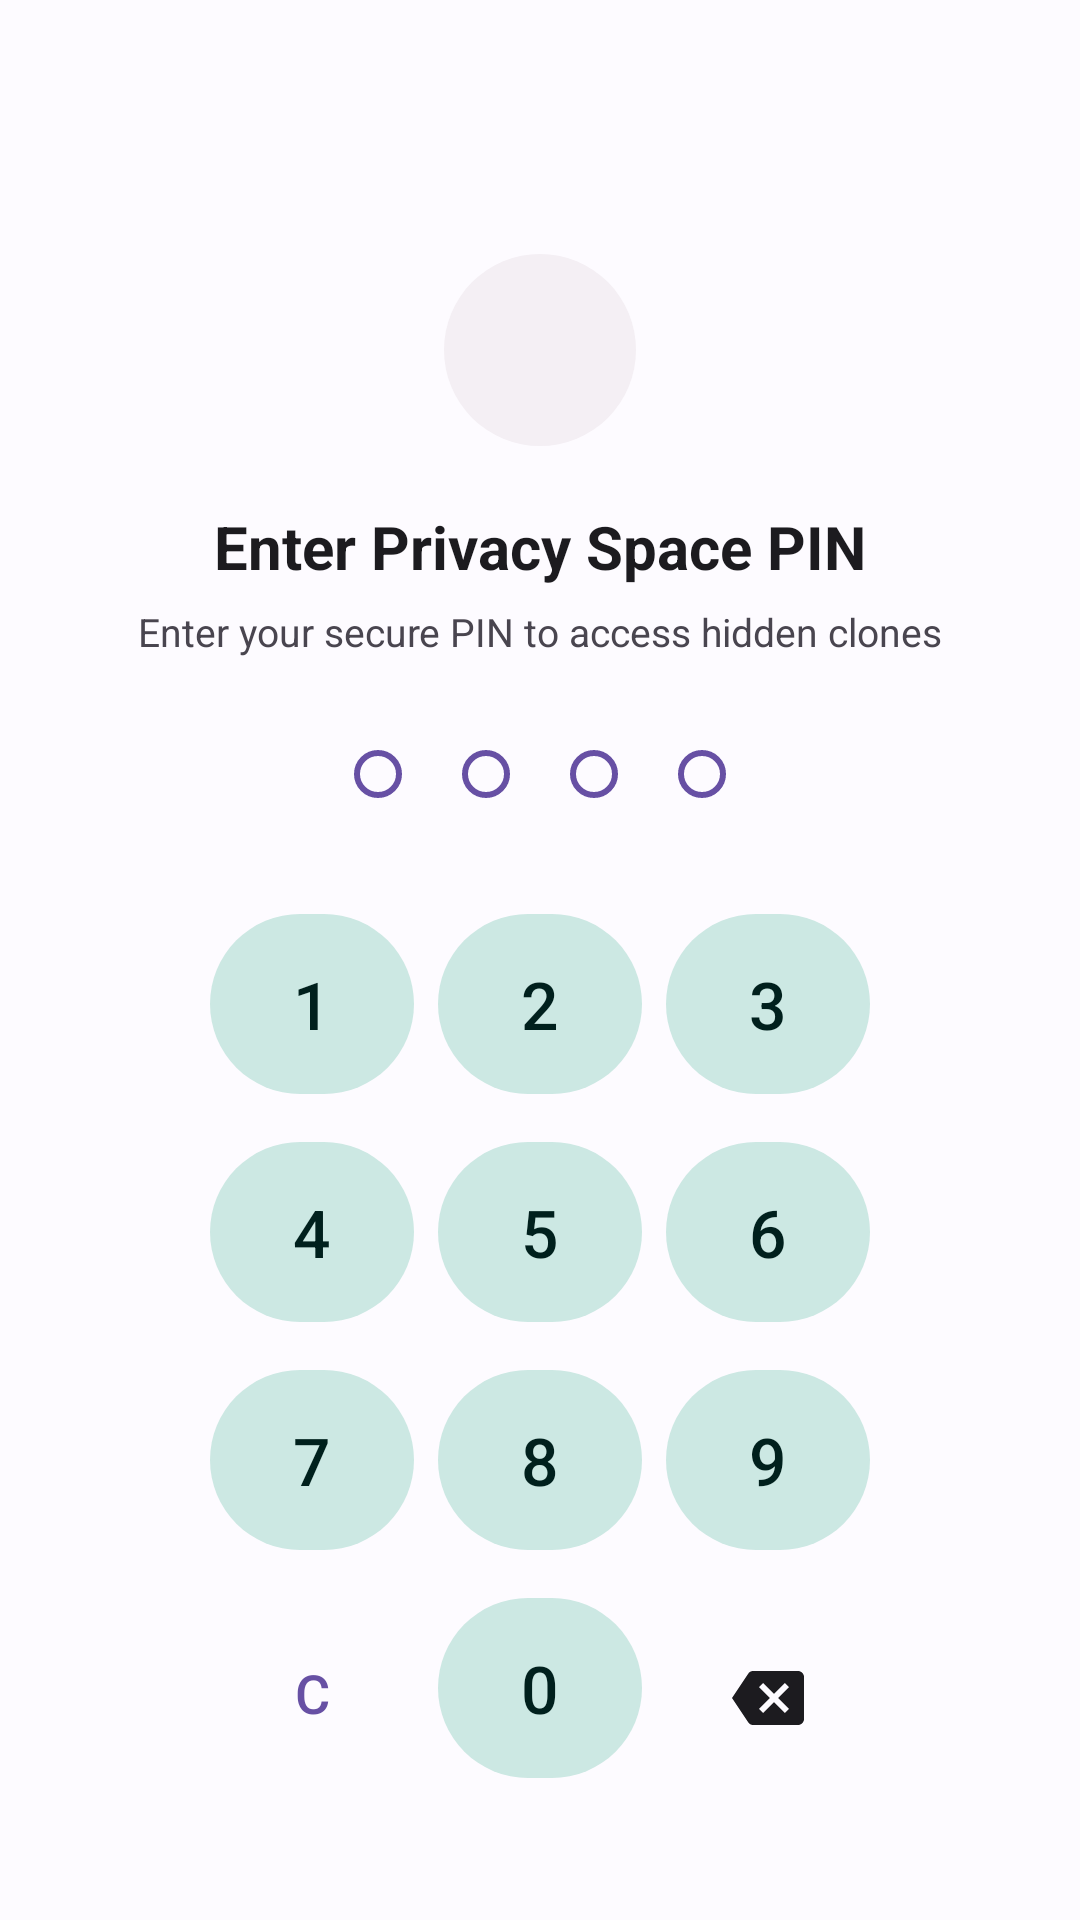

Where icons sit on this 1080 x 1920 app screen, as bbox=(x1, y1, x2, y2):
backspace: bbox=(732, 1671, 804, 1725)
